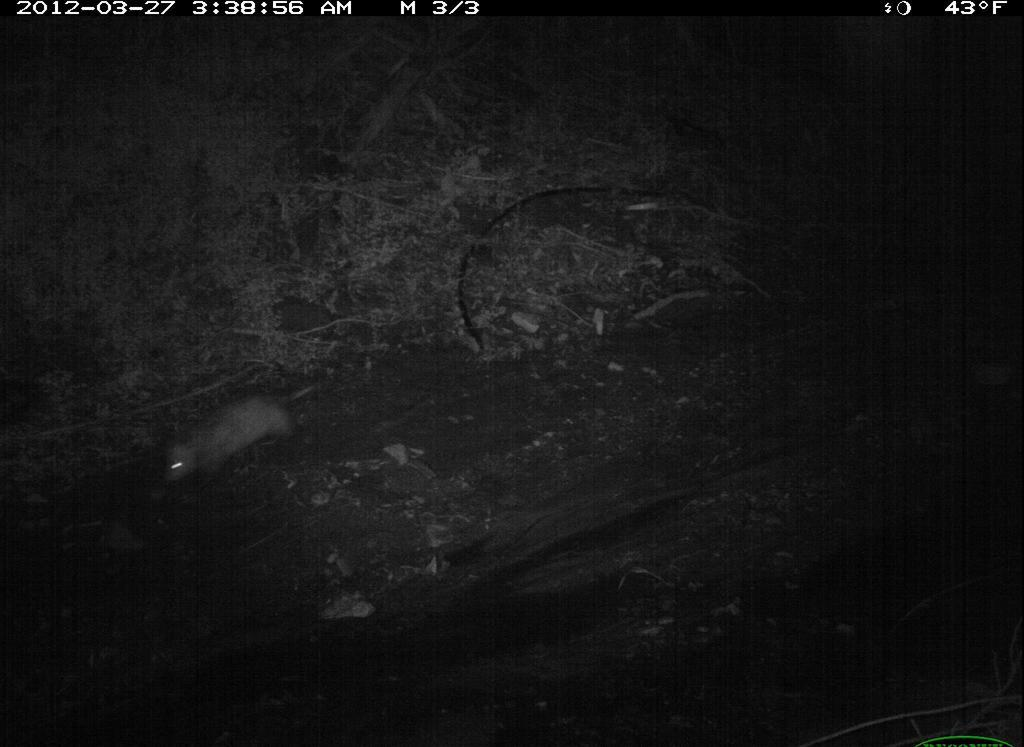opossum: (152, 372, 331, 495)
